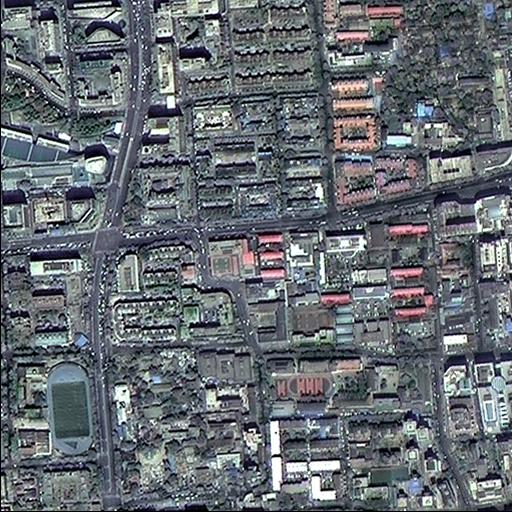school: (6, 346, 97, 468), (266, 353, 432, 414), (286, 288, 336, 347), (204, 231, 258, 283)
